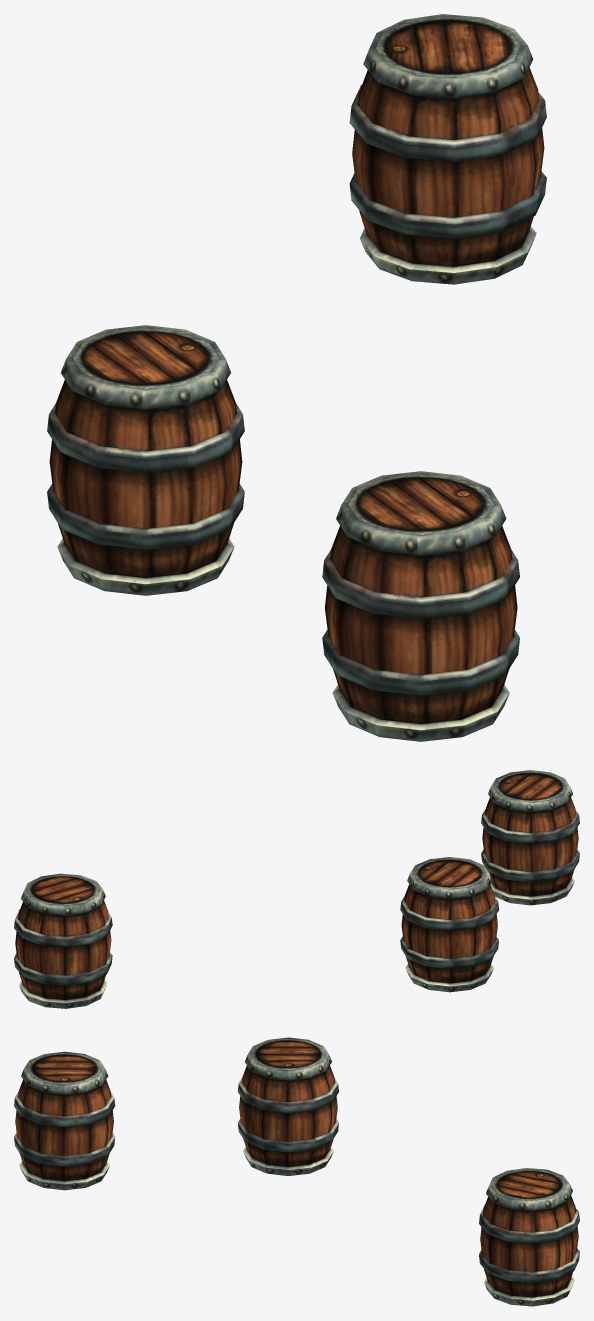
File: PUSH11_BARRELS.fbx
3 renders of one model, top to bottom at view 1: azimuth 30°, elevation 25°; view 2: azimuth 150°, elevation 25°; view 3: azimuth 270°, elevation 25°, orthographic. The views are drawn at different scales.
Visible parts, largest first — view 1: PUSH11_BARRELS; view 2: PUSH11_BARRELS; view 3: PUSH11_BARRELS.
Boxes of the visible parts, x1,y1,x2,y2 form: PUSH11_BARRELS: (47,14,546,741); PUSH11_BARRELS: (14,770,579,1008); PUSH11_BARRELS: (14,1037,579,1306).
Size of the model in its own units: 32588 by 9241 by 44004.
Materials: 2 (2 with a texture image).
